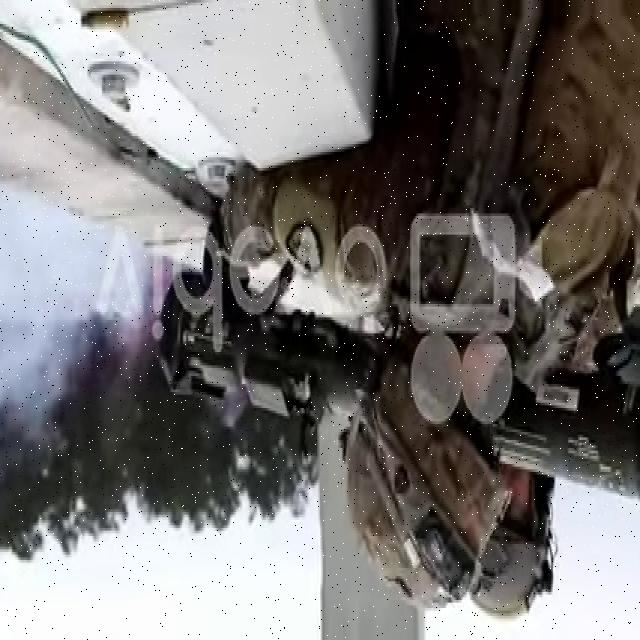bazooka: (156, 251, 640, 507)
